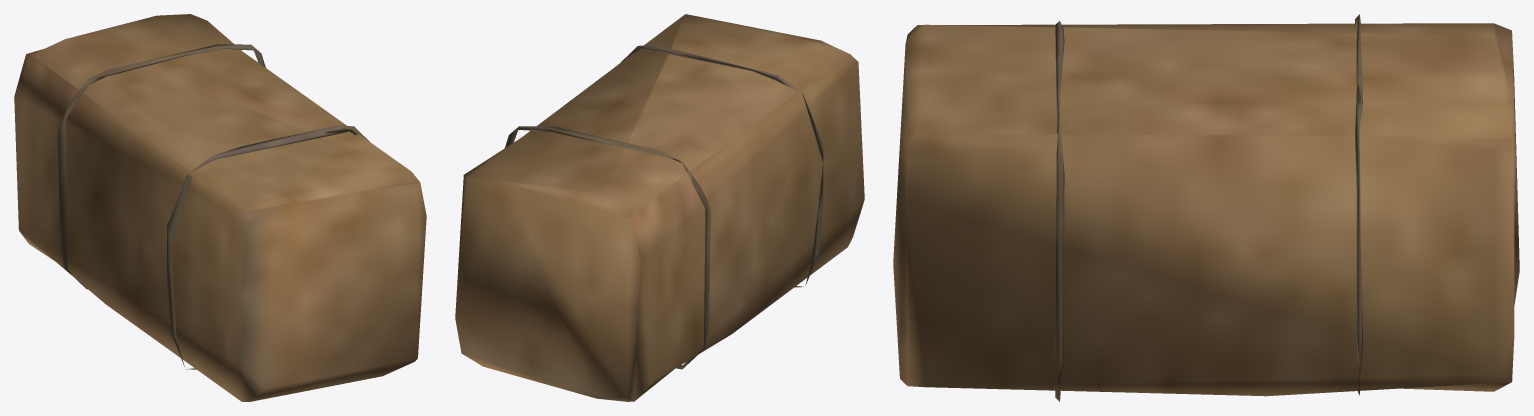
Rendered from hay-bale.lod1.glb.
The picture shows the model from 3 angles, left to right: view 1: azimuth 30°, elevation 25°; view 2: azimuth 150°, elevation 25°; view 3: azimuth 270°, elevation 25°; orthographic projection. The views are drawn at different scales.
Visible parts, largest first — view 1: Hay_bale_latest:Hay_Hay_bale_latest:Hay_bale1_0; view 2: Hay_bale_latest:Hay_Hay_bale_latest:Hay_bale1_0; view 3: Hay_bale_latest:Hay_Hay_bale_latest:Hay_bale1_0.
Part boxes in pixels (bbox=[...]): Hay_bale_latest:Hay_Hay_bale_latest:Hay_bale1_0: bbox=[14, 14, 426, 401]; Hay_bale_latest:Hay_Hay_bale_latest:Hay_bale1_0: bbox=[455, 14, 864, 401]; Hay_bale_latest:Hay_Hay_bale_latest:Hay_bale1_0: bbox=[893, 14, 1519, 401].
Size of the model in its own units: 0.8228 by 0.8069 by 1.5.
Materials: 1 (1 with a texture image).
